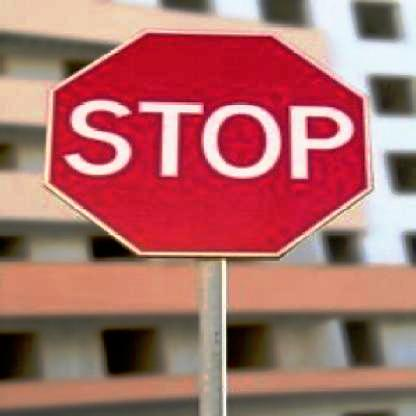Stop Sign: (40, 17, 379, 268)
